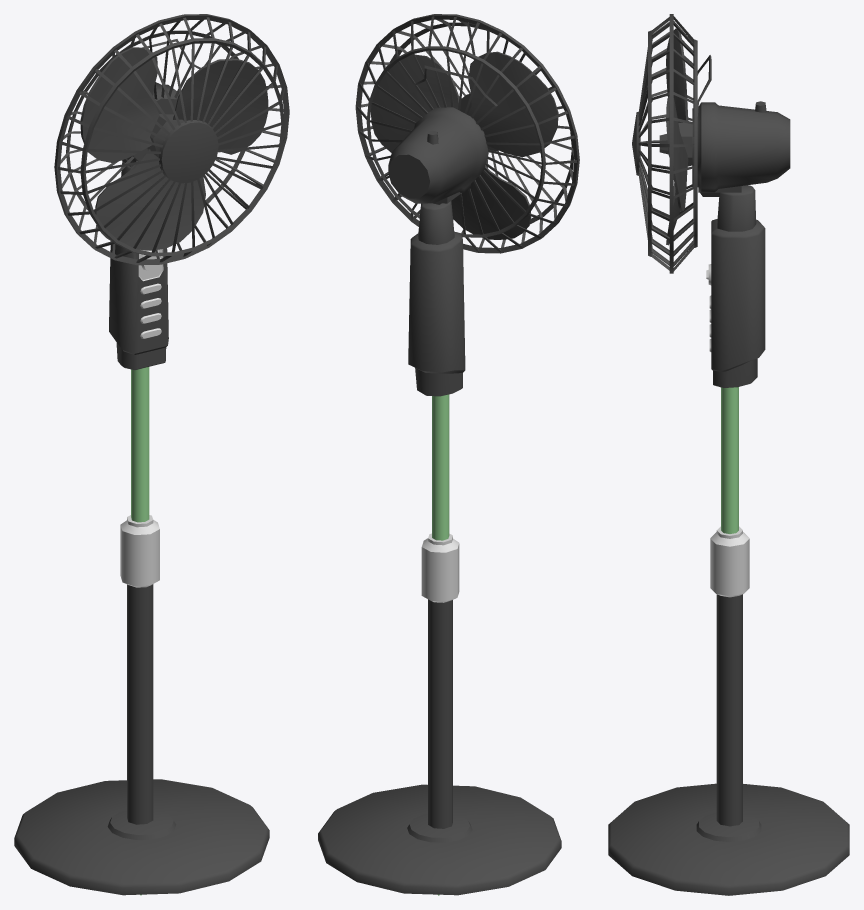
3 views of the same model, side by side, from view 1: azimuth 30°, elevation 25°; view 2: azimuth 150°, elevation 25°; view 3: azimuth 270°, elevation 25° (orthographic). The views are drawn at different scales.
Visible parts, largest first — view 1: FS405F; view 2: FS405F; view 3: FS405F.
Boxes of the visible parts, x1,y1,x2,y2 form: FS405F: [14, 14, 289, 895]; FS405F: [318, 14, 579, 895]; FS405F: [608, 14, 849, 895].
Size of the model in its own units: 1094 by 3810 by 1015.
